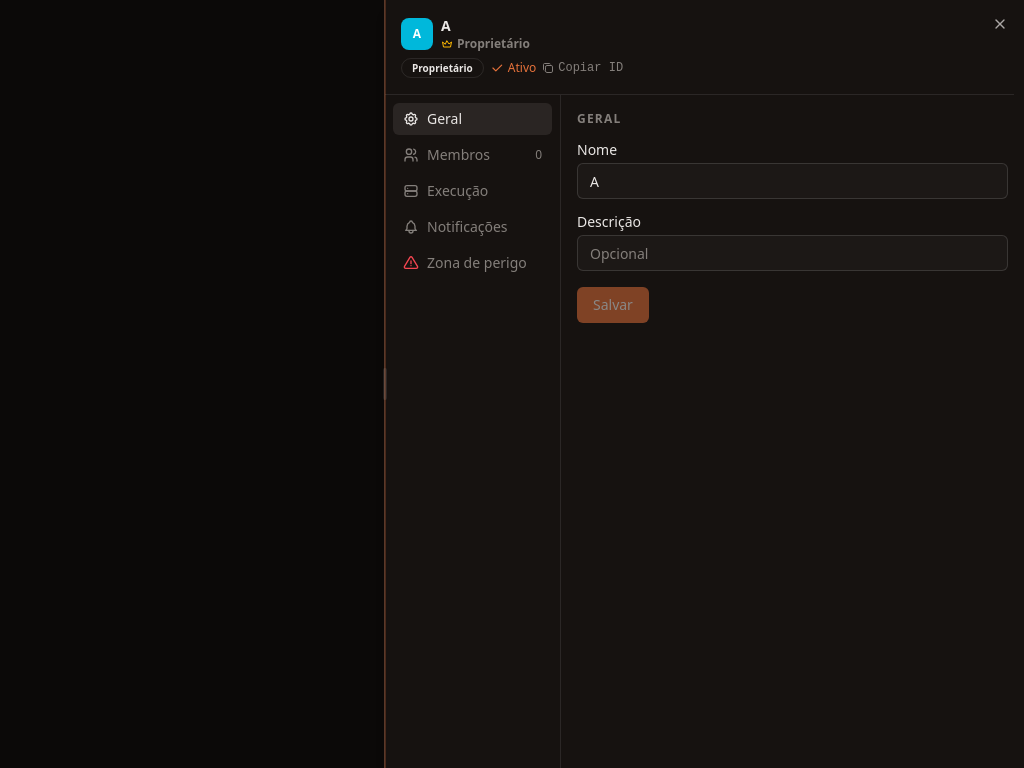
Scenario: painel do workspace — seção Notificações › mostra os hosts já configurados quando a seção é selecionada
Click the button "Notificações".
click(472, 227)  # box [393,211,552,243]
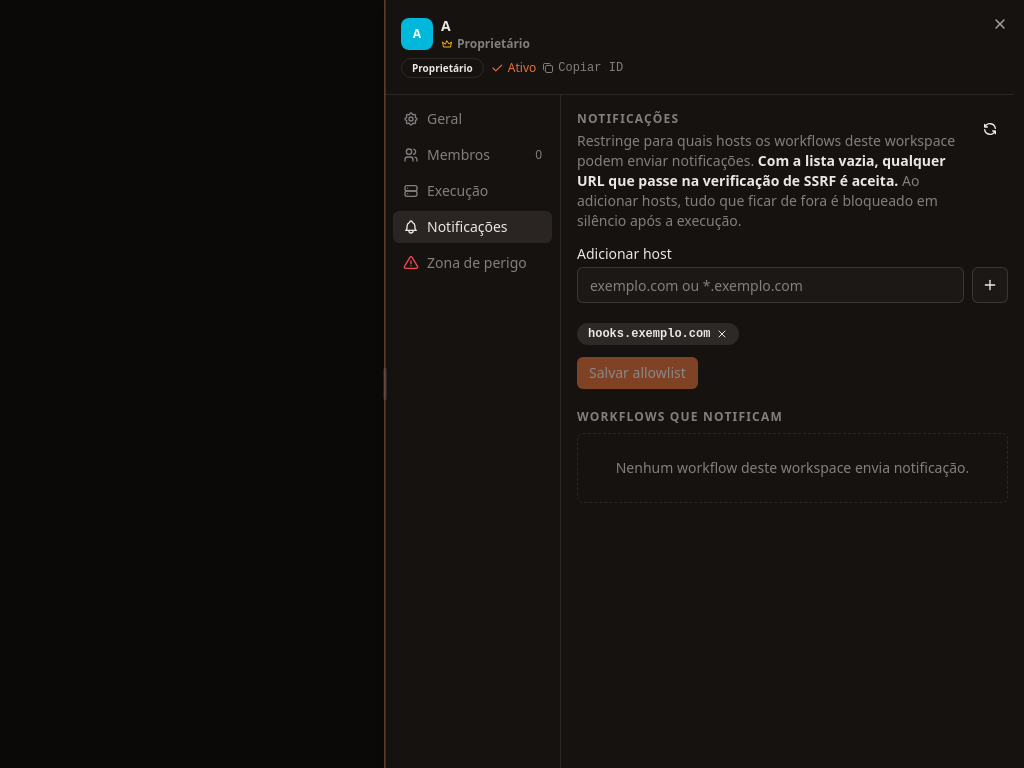
Expected: the text "hooks.exemplo.com" is shown, [577,323,739,345]
